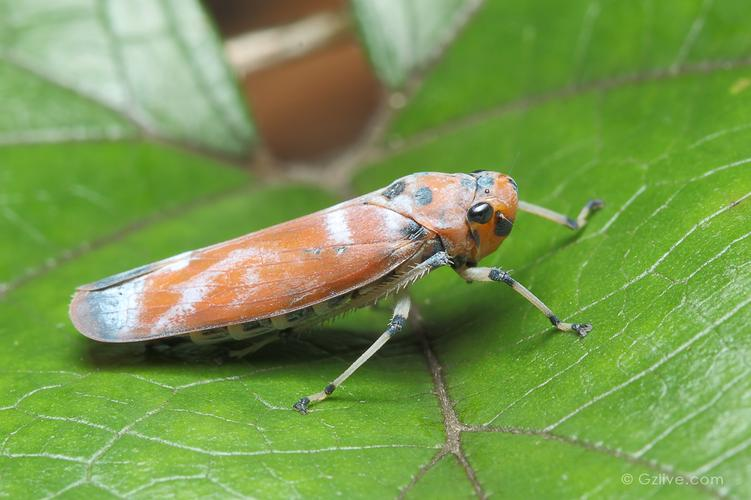Cicadellidae: (70, 168, 604, 411)
